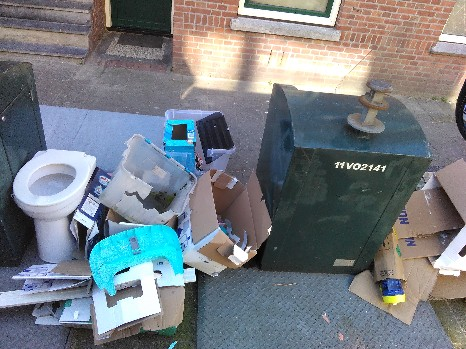Container: (275, 76, 391, 264), (4, 54, 55, 142)
Papier: (380, 193, 429, 320), (196, 176, 254, 268), (439, 161, 466, 284)
Plastic: (172, 107, 229, 172)
Rest: (29, 157, 113, 250), (32, 253, 113, 340), (95, 292, 216, 343), (93, 234, 188, 294), (126, 156, 180, 222)
